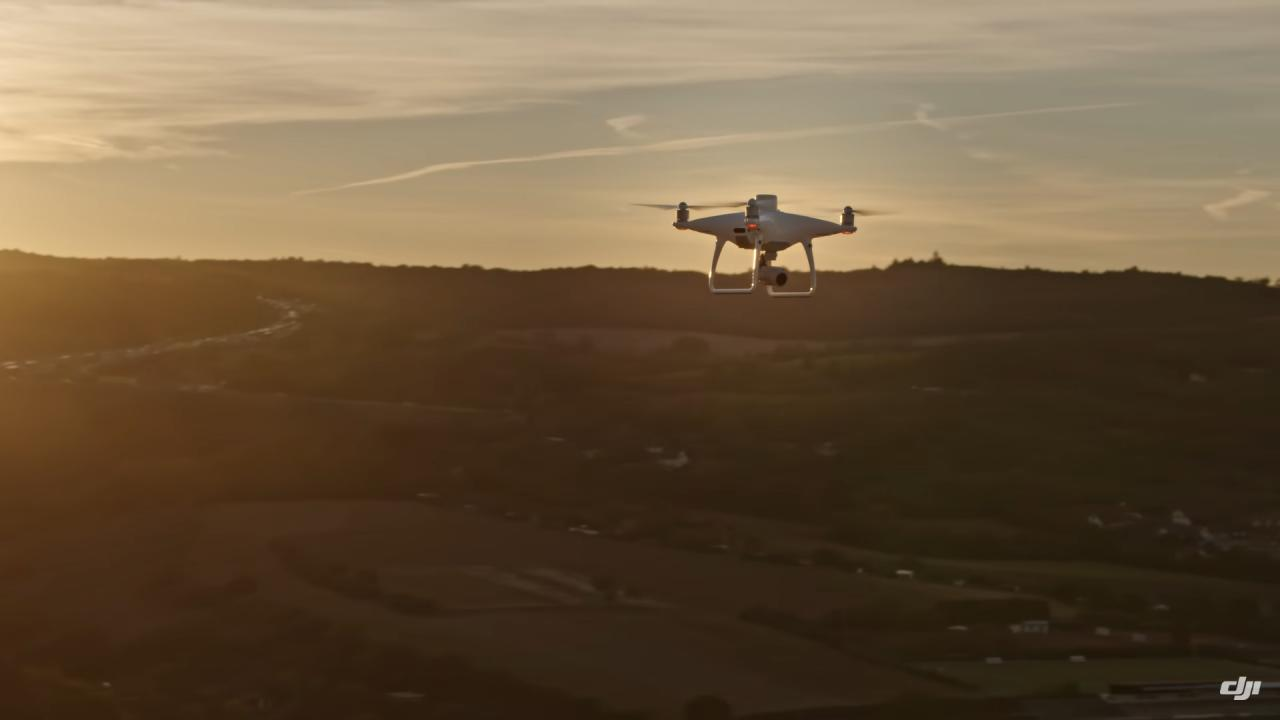Drone: (620, 178, 916, 310)
